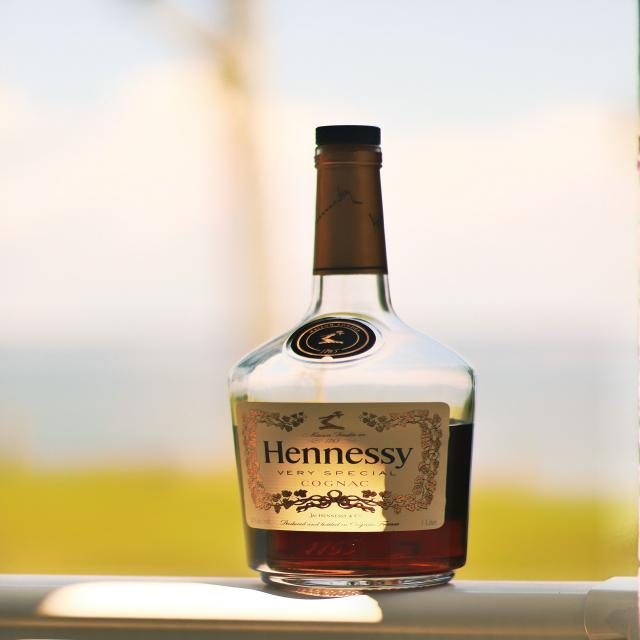Bottle: (231, 126, 473, 593)
